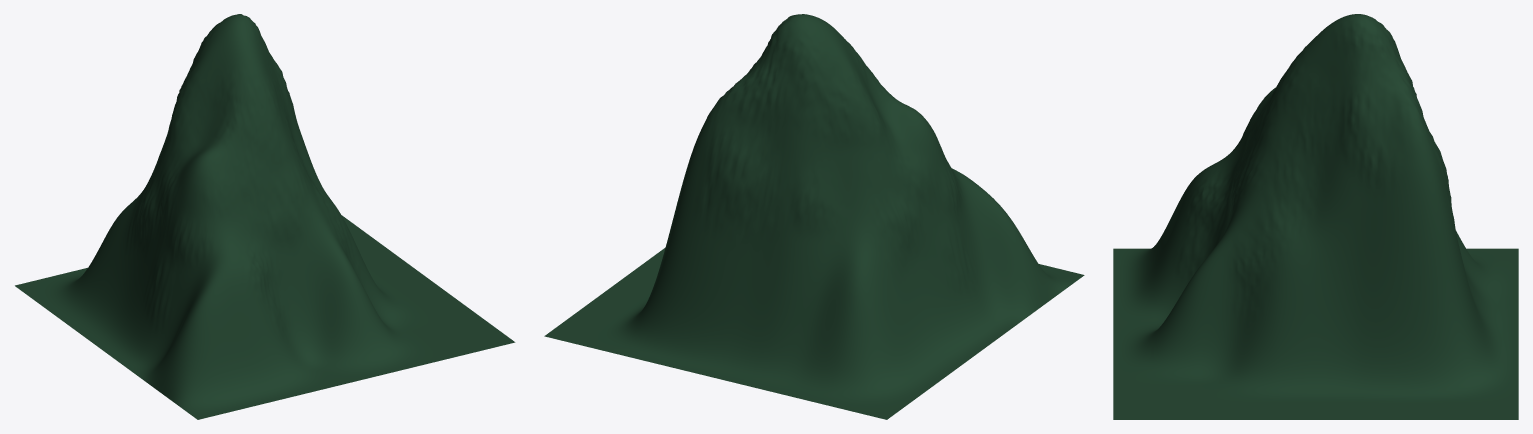
File: Smooth_border_mountain.fbx
The picture shows the model from 3 angles, left to right: view 1: azimuth 30°, elevation 25°; view 2: azimuth 150°, elevation 25°; view 3: azimuth 270°, elevation 25°; orthographic projection. The views are drawn at different scales.
Parts seen in each view (by area): view 1: pPlane5; view 2: pPlane5; view 3: pPlane5.
Boxes of the visible parts, left/top/right/bottom form: pPlane5: left=15, top=14, right=515, bottom=419; pPlane5: left=544, top=14, right=1084, bottom=419; pPlane5: left=1113, top=14, right=1518, bottom=419.
Bounding box in the file's own units: 1565 × 1341 × 1565.
